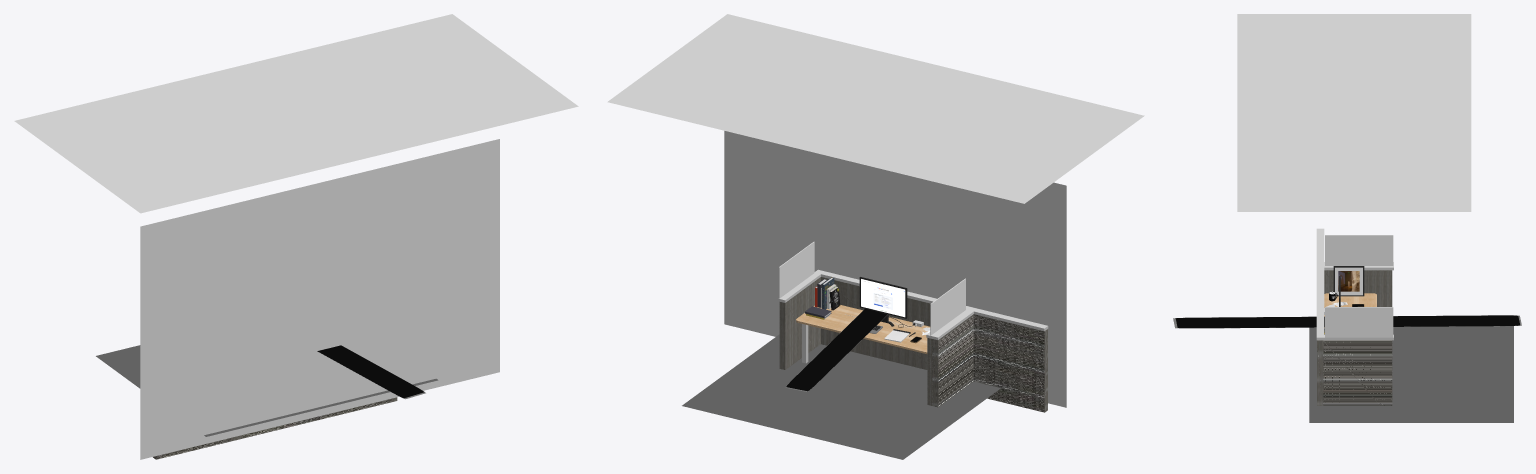
File: desktop.glb
3 renders of one model, left to right at view 1: azimuth 30°, elevation 25°; view 2: azimuth 150°, elevation 25°; view 3: azimuth 270°, elevation 25°, orthographic. The views are drawn at different scales.
Parts seen in each view (by area): view 1: Plane, Plane.006, Cube.028, Plane.001, Cube; view 2: Plane.006, Plane, Plane.001, Cube.022, Cube, Cube.020, Cube.028, Cube.002, Cube.010, Cube.001, Cube.023; view 3: Plane.006, Plane.001, Cube, Cube.020, Cube.028, Cube.001, Cube.029, Cube.002.
Part boxes in pixels (x1,y1,x2,y2): Plane: (140, 139, 499, 459); Plane.006: (14, 14, 578, 213); Cube.028: (317, 345, 425, 399); Plane.001: (96, 345, 438, 436); Cube: (236, 397, 397, 440); Plane.006: (607, 14, 1144, 203); Plane: (724, 131, 1066, 407); Plane.001: (682, 334, 1000, 459); Cube.022: (932, 314, 1047, 412); Cube: (779, 277, 932, 405); Cube.020: (779, 241, 965, 335); Cube.028: (785, 309, 887, 391); Cube.002: (796, 305, 930, 353); Cube.010: (859, 277, 907, 318); Cube.001: (778, 269, 971, 338); Cube.023: (932, 307, 1048, 340); Plane.006: (1237, 14, 1471, 211); Plane.001: (1309, 326, 1513, 422); Cube: (1317, 270, 1392, 405); Cube.020: (1325, 235, 1393, 337); Cube.028: (1173, 315, 1521, 328); Cube.001: (1316, 265, 1393, 340); Cube.029: (1333, 266, 1364, 296); Cube.002: (1324, 293, 1376, 328).
Bounding box in the file's own units: 57.04 × 36.34 × 42.5.
Materials: 25 (8 with a texture image).
